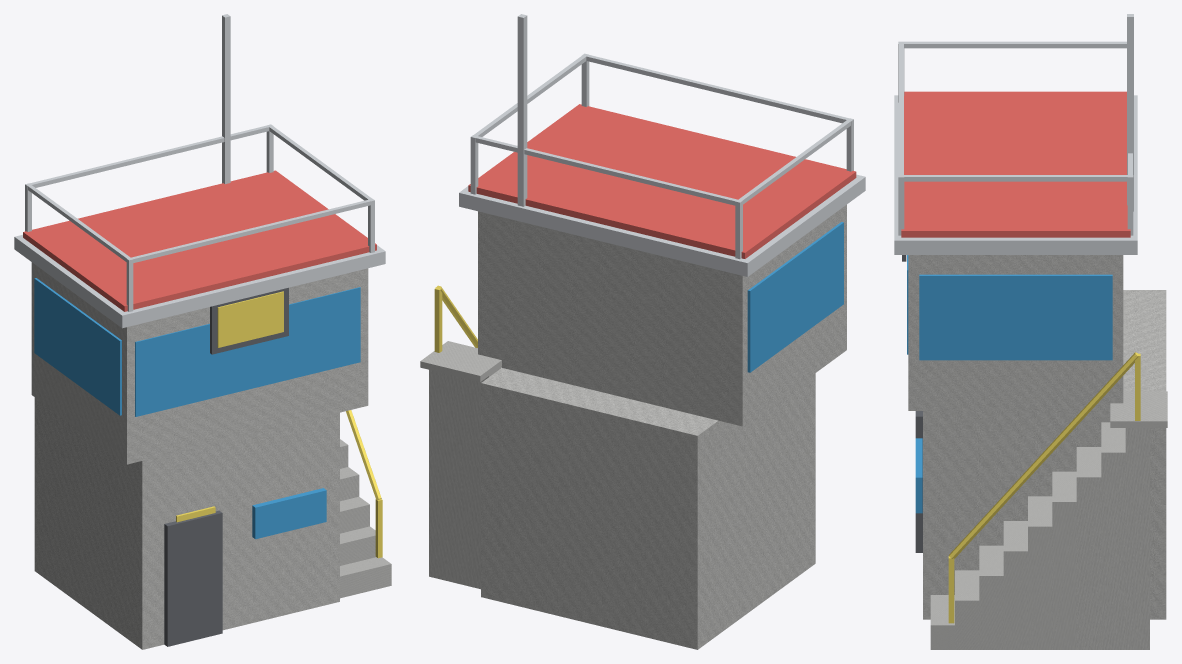
File: go-kart-track-and-pit-lane-race-control-tower-6eb27229__34355.glb
3 views of the same model, side by side, from view 1: azimuth 30°, elevation 25°; view 2: azimuth 150°, elevation 25°; view 3: azimuth 270°, elevation 25° (orthographic). The views are drawn at different scales.
Visible parts, largest first — view 1: race-control-tower-concrete, race-control-tower-red, race-control-tower-azure, race-control-tower-steel, race-control-tower-charcoal, race-control-tower-canary; view 2: race-control-tower-concrete, race-control-tower-red, race-control-tower-steel, race-control-tower-azure, race-control-tower-canary; view 3: race-control-tower-concrete, race-control-tower-red, race-control-tower-azure, race-control-tower-steel, race-control-tower-canary, race-control-tower-charcoal.
Boxes of the visible parts, box(x1,y1,x2,y2) form: race-control-tower-concrete: box(31, 262, 391, 649); race-control-tower-red: box(23, 170, 376, 311); race-control-tower-azure: box(34, 278, 360, 539); race-control-tower-steel: box(14, 14, 385, 328); race-control-tower-charcoal: box(164, 287, 288, 646); race-control-tower-canary: box(176, 291, 382, 558); race-control-tower-concrete: box(420, 204, 846, 649); race-control-tower-red: box(468, 104, 856, 258); race-control-tower-steel: box(459, 14, 865, 276); race-control-tower-azure: box(747, 222, 843, 372); race-control-tower-canary: box(434, 285, 477, 352); race-control-tower-concrete: box(908, 255, 1167, 649); race-control-tower-red: box(901, 91, 1130, 237); race-control-tower-azure: box(907, 255, 1112, 513); race-control-tower-steel: box(894, 14, 1137, 254); race-control-tower-canary: box(948, 352, 1140, 623); race-control-tower-charcoal: box(902, 255, 922, 552).
Bounding box in the file's own units: 5.2 × 9.12 × 3.82.
6 materials, 1 textured.
